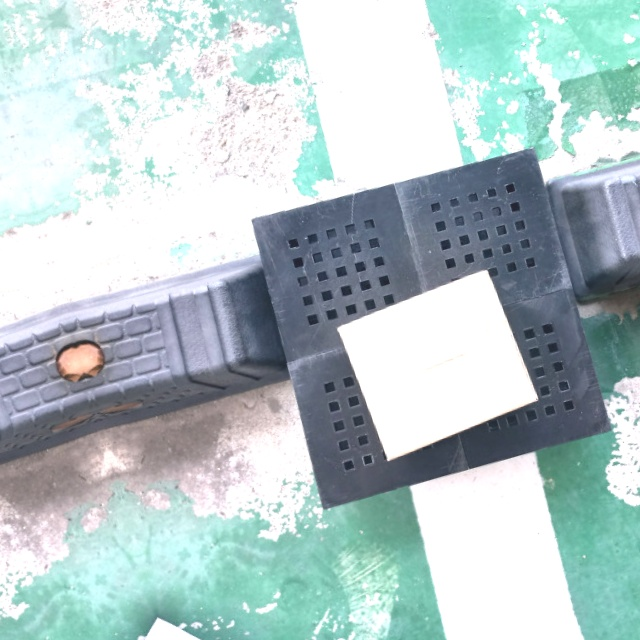pallet: (229, 144, 638, 525)
